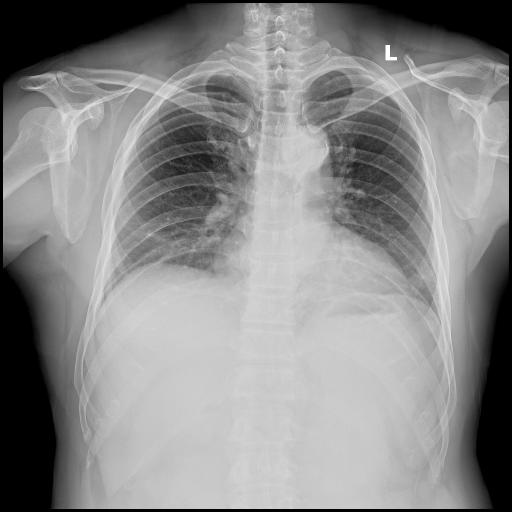Aortic enlargement: (251, 98, 306, 149)
Cardiomegaly: (112, 210, 311, 274)
